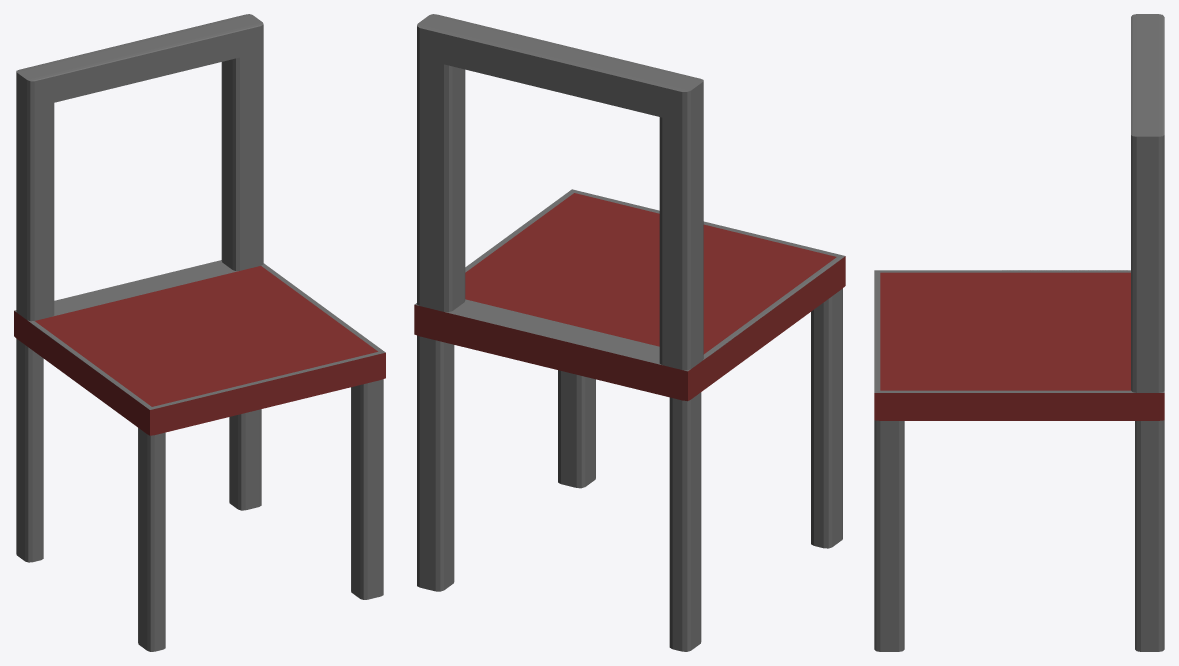
Rendered from prop-chair.fbx.
The picture shows the model from 3 angles, left to right: view 1: azimuth 30°, elevation 25°; view 2: azimuth 150°, elevation 25°; view 3: azimuth 270°, elevation 25°; orthographic projection. The views are drawn at different scales.
Parts seen in each view (by area): view 1: prop-chair; view 2: prop-chair; view 3: prop-chair.
Part boxes in pixels (<box>): prop-chair: <box>14,14,385,651</box>; prop-chair: <box>414,14,845,651</box>; prop-chair: <box>874,14,1164,651</box>.
Bounding box in the file's own units: 42.99 × 84.11 × 42.91.
